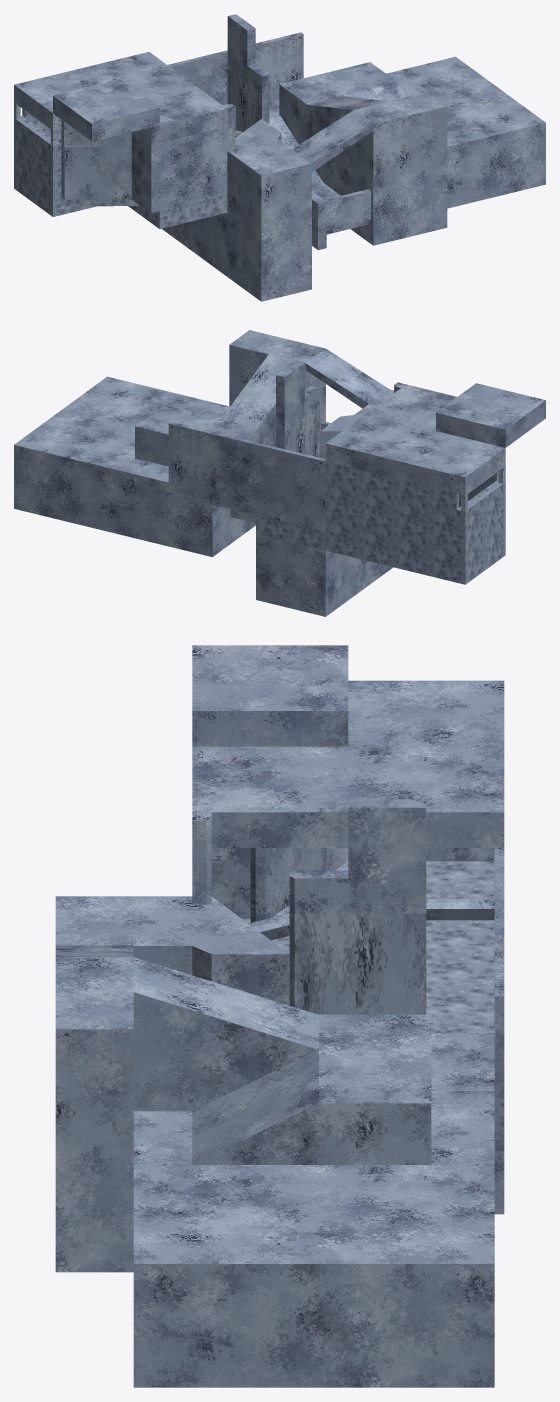
The model's file is map.glb.
The picture shows the model from 3 angles, top to bottom: view 1: azimuth 30°, elevation 25°; view 2: azimuth 150°, elevation 25°; view 3: azimuth 270°, elevation 25°; orthographic projection. The views are drawn at different scales.
Visible parts, largest first — view 1: entity0_brush56, entity0_brush52, entity0_brush50, entity0_brush43, entity0_brush11, entity0_brush18, entity0_brush12, entity0_brush5, entity0_brush6, entity0_brush32, entity0_brush4, entity0_brush2 (+23 smaller); view 2: entity0_brush56, entity0_brush32, entity0_brush33, entity0_brush44, entity0_brush43, entity0_brush4, entity0_brush18, entity0_brush2, entity0_brush50, entity0_brush6, entity0_brush54, entity0_brush57 (+12 smaller); view 3: entity0_brush56, entity0_brush54, entity0_brush18, entity0_brush5, entity0_brush50, entity0_brush29, entity0_brush57, entity0_brush2, entity0_brush58, entity0_brush4, entity0_brush40, entity0_brush43 (+20 smaller).
Boxes of the visible parts, x1,y1,x2,y2 form: entity0_brush56: [386, 56, 545, 208]; entity0_brush52: [227, 138, 311, 301]; entity0_brush50: [353, 92, 447, 183]; entity0_brush43: [291, 133, 447, 245]; entity0_brush11: [159, 126, 227, 211]; entity0_brush18: [53, 79, 159, 141]; entity0_brush12: [61, 144, 131, 199]; entity0_brush5: [139, 80, 227, 142]; entity0_brush6: [14, 116, 61, 199]; entity0_brush32: [168, 38, 278, 105]; entity0_brush4: [14, 68, 101, 130]; entity0_brush2: [82, 52, 187, 92]; entity0_brush56: [14, 376, 228, 538]; entity0_brush32: [194, 428, 325, 532]; entity0_brush33: [325, 462, 458, 564]; entity0_brush44: [256, 534, 392, 616]; entity0_brush43: [136, 419, 325, 556]; entity0_brush4: [395, 431, 505, 495]; entity0_brush18: [436, 383, 545, 447]; entity0_brush2: [325, 414, 435, 478]; entity0_brush50: [229, 330, 325, 414]; entity0_brush6: [456, 480, 505, 566]; entity0_brush54: [221, 354, 305, 446]; entity0_brush57: [135, 405, 220, 466]; entity0_brush56: [133, 1148, 494, 1387]; entity0_brush54: [133, 957, 318, 1111]; entity0_brush18: [192, 645, 348, 746]; entity0_brush5: [192, 746, 348, 847]; entity0_brush50: [55, 957, 133, 1148]; entity0_brush29: [289, 912, 426, 1014]; entity0_brush57: [319, 1049, 431, 1164]; entity0_brush2: [348, 746, 504, 847]; entity0_brush58: [192, 1050, 318, 1164]; entity0_brush4: [348, 680, 504, 746]; entity0_brush40: [348, 799, 426, 913]; entity0_brush43: [55, 1166, 133, 1272].
Size of the model in its own units: 832 by 368 by 368.
1 material, 1 textured.
